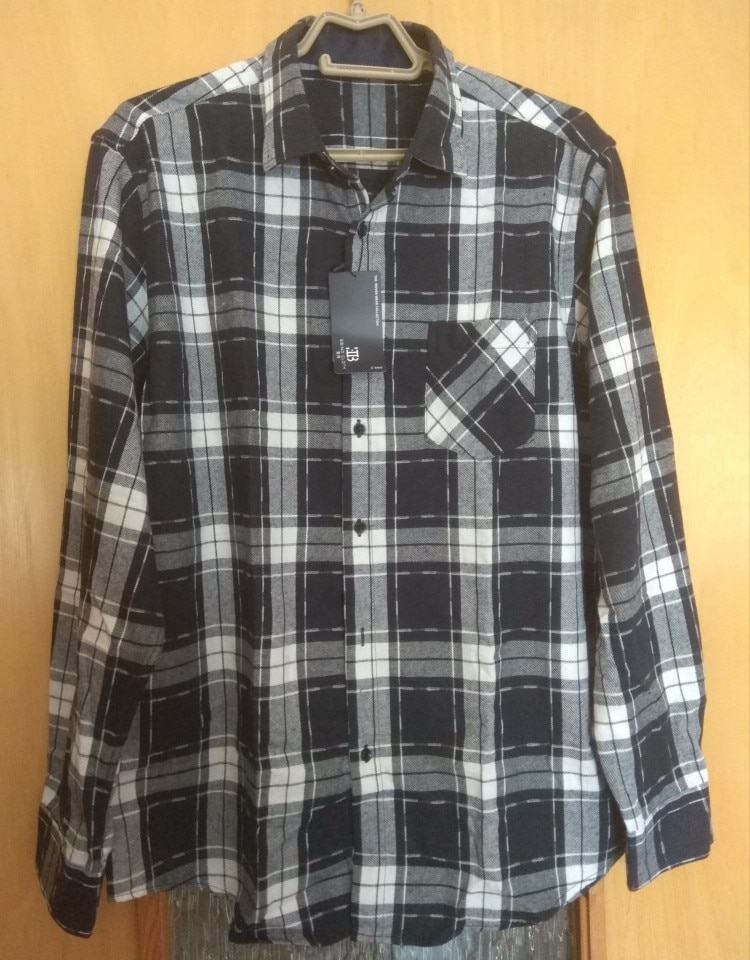shirts: (39, 31, 727, 953)
